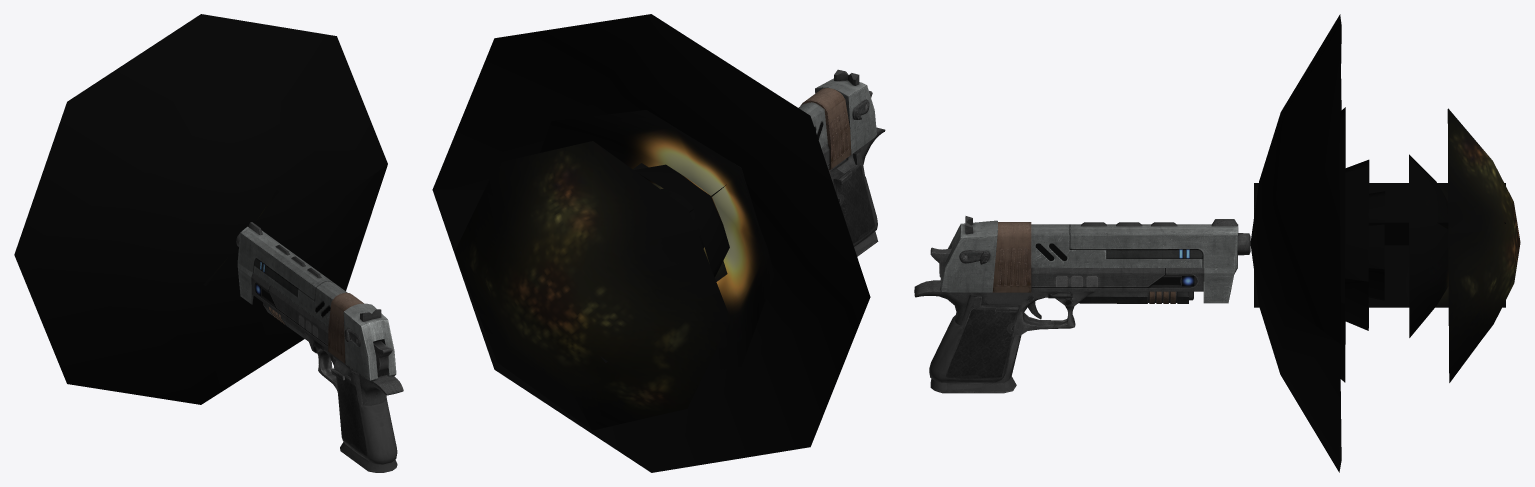
The model's file is TP_Duke.DAE.
3 renders of one model, left to right at view 1: azimuth 30°, elevation 25°; view 2: azimuth 150°, elevation 25°; view 3: azimuth 270°, elevation 25°, orthographic. The views are drawn at different scales.
Visible parts, largest first — view 1: Ryder_MuzzleFlash4_LOD200, Duke_LOD200; view 2: Ryder_MuzzleFlash4_LOD200, Ryder_MuzzleFlash3_LOD200, Duke_LOD200, Ryder_MuzzleFlash2_LOD200; view 3: Ryder_MuzzleFlash4_LOD200, Duke_LOD200, Ryder_MuzzleFlash3_LOD200, Ryder_MuzzleFlash2_LOD200, Ryder_MuzzleFlash1_LOD200.
Boxes of the visible parts, x1,y1,x2,y2 form: Ryder_MuzzleFlash4_LOD200: (14, 14, 387, 404); Duke_LOD200: (236, 222, 403, 472); Ryder_MuzzleFlash4_LOD200: (432, 14, 870, 472); Ryder_MuzzleFlash3_LOD200: (540, 110, 774, 371); Duke_LOD200: (798, 69, 885, 256); Ryder_MuzzleFlash2_LOD200: (634, 164, 729, 277); Ryder_MuzzleFlash4_LOD200: (1250, 14, 1520, 472); Duke_LOD200: (914, 216, 1250, 393); Ryder_MuzzleFlash3_LOD200: (1254, 107, 1448, 382); Ryder_MuzzleFlash2_LOD200: (1254, 159, 1369, 330); Ryder_MuzzleFlash1_LOD200: (1254, 183, 1385, 307).
Size of what is drawn, in the model's own units: 0.5553 by 0.7036 by 0.5555.
